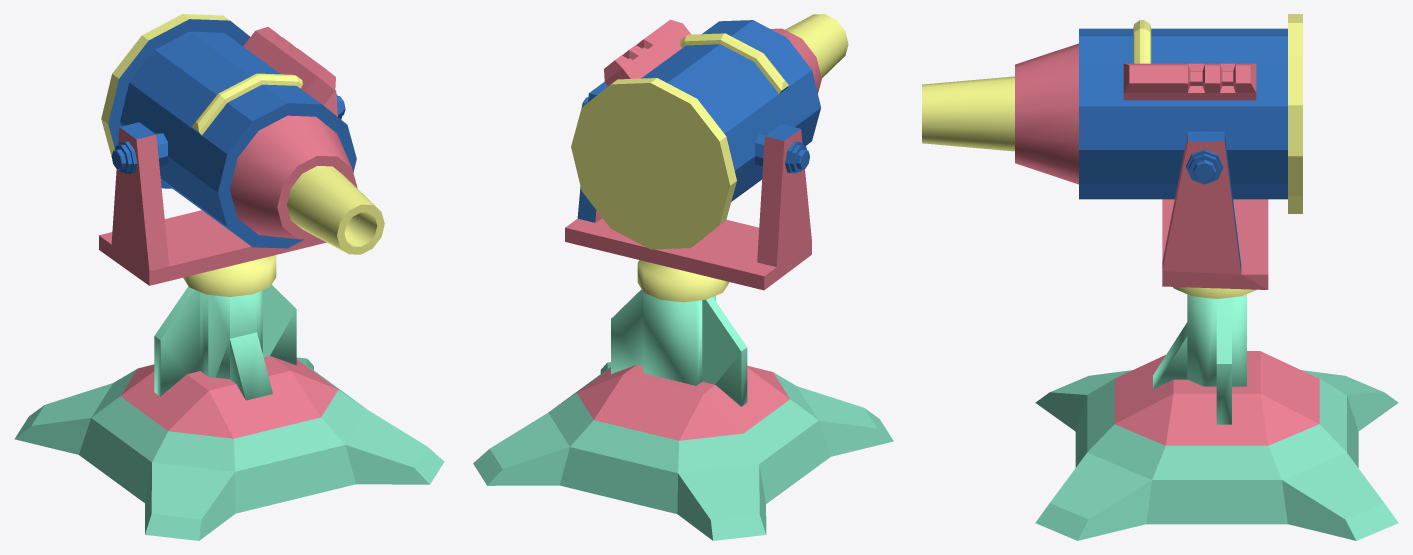
Rendered from BubbleGun.fbx.
3 views of the same model, side by side, from view 1: azimuth 30°, elevation 25°; view 2: azimuth 150°, elevation 25°; view 3: azimuth 270°, elevation 25° (orthographic). The views are drawn at different scales.
Visible parts, largest first — view 1: Turret.002, Turret.007; view 2: Turret.007, Turret.002; view 3: Turret.007, Turret.002.
Part boxes in pixels (<box>): Turret.002: <box>14,255,444,540</box>; Turret.007: <box>99,14,384,285</box>; Turret.007: <box>565,14,848,290</box>; Turret.002: <box>473,260,893,540</box>; Turret.007: <box>922,14,1302,289</box>; Turret.002: <box>1035,287,1398,540</box>.
Size of the model in its own units: 534 by 697 by 690.
